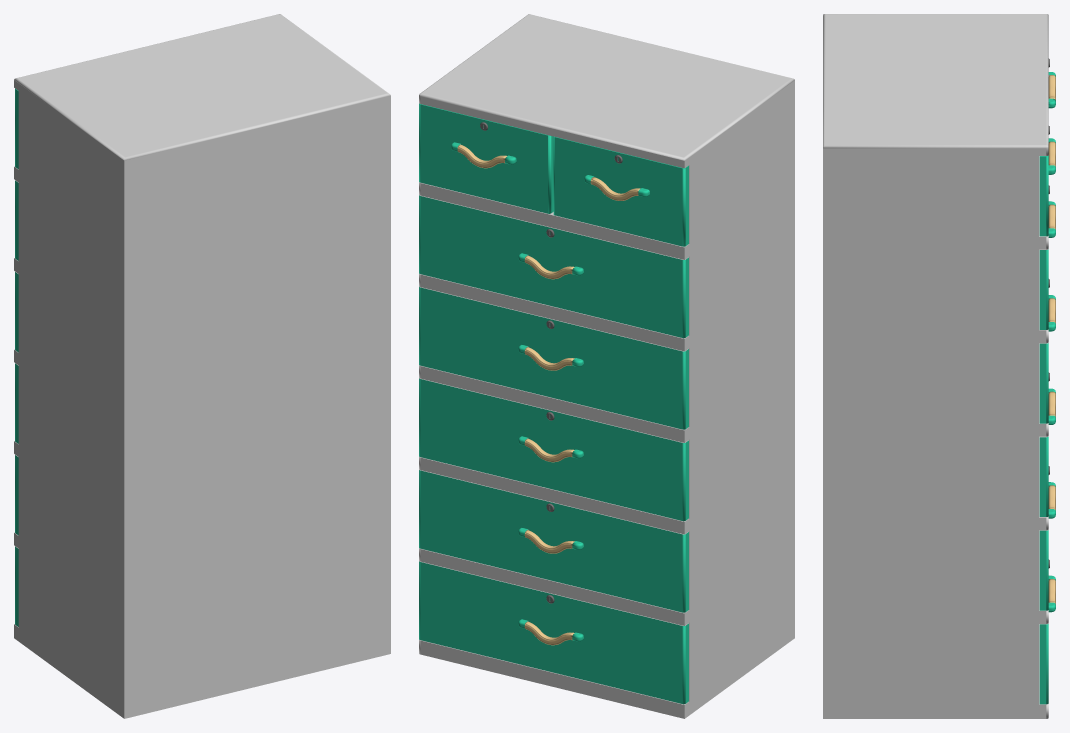
The model's file is orocan drawer.fbx.
3 views of the same model, side by side, from view 1: azimuth 30°, elevation 25°; view 2: azimuth 150°, elevation 25°; view 3: azimuth 270°, elevation 25° (orthographic). The views are drawn at different scales.
Parts seen in each view (by area): view 1: G-Object; view 2: G-Object, _C-Component#1 (Loose Mesh).002, _C-Component#1 (Loose Mesh).004, _C-Component#1 (Loose Mesh), _C-Component#1 (Loose Mesh).001, _C-Component#1 (Loose Mesh).003, G-Object.026, G-Object.005; view 3: G-Object, _C-Component#1 (Loose Mesh).003, _C-Component#1 (Loose Mesh), G-Object.005, _C-Component#1 (Loose Mesh).001, _C-Component#1 (Loose Mesh).002, _C-Component#1 (Loose Mesh).004.
Boxes of the visible parts, x1,y1,x2,y2 form: G-Object: [14, 14, 390, 718]; G-Object: [419, 14, 794, 718]; _C-Component#1 (Loose Mesh).002: [419, 561, 688, 704]; _C-Component#1 (Loose Mesh).004: [419, 378, 688, 521]; _C-Component#1 (Loose Mesh): [419, 195, 688, 338]; _C-Component#1 (Loose Mesh).001: [419, 469, 688, 612]; _C-Component#1 (Loose Mesh).003: [419, 286, 688, 429]; G-Object.026: [553, 136, 688, 246]; G-Object.005: [419, 103, 553, 213]; G-Object: [823, 14, 1048, 718]; _C-Component#1 (Loose Mesh).003: [1039, 342, 1048, 423]; _C-Component#1 (Loose Mesh): [1039, 249, 1048, 329]; G-Object.005: [1039, 155, 1048, 236]; _C-Component#1 (Loose Mesh).001: [1039, 530, 1048, 610]; _C-Component#1 (Loose Mesh).002: [1039, 623, 1048, 704]; _C-Component#1 (Loose Mesh).004: [1039, 436, 1048, 516].
Bounding box in the file's own units: 65.7 × 132 × 48.6.
